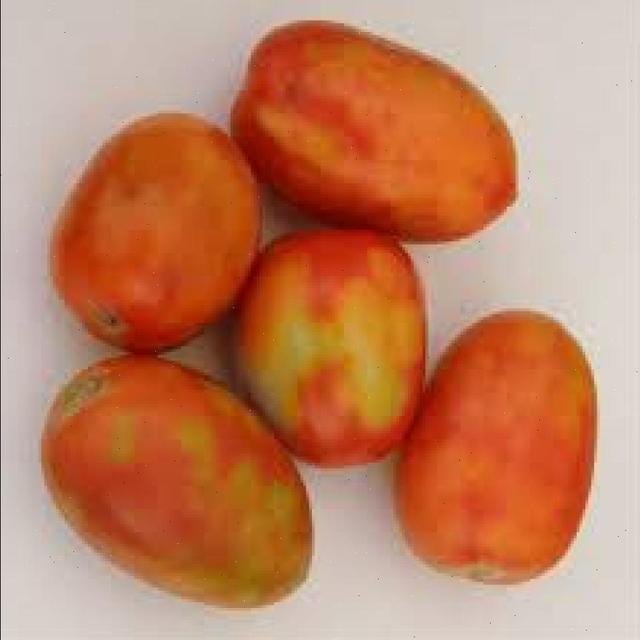Spotted wilt Virus Fruit: (130, 39, 384, 285)
